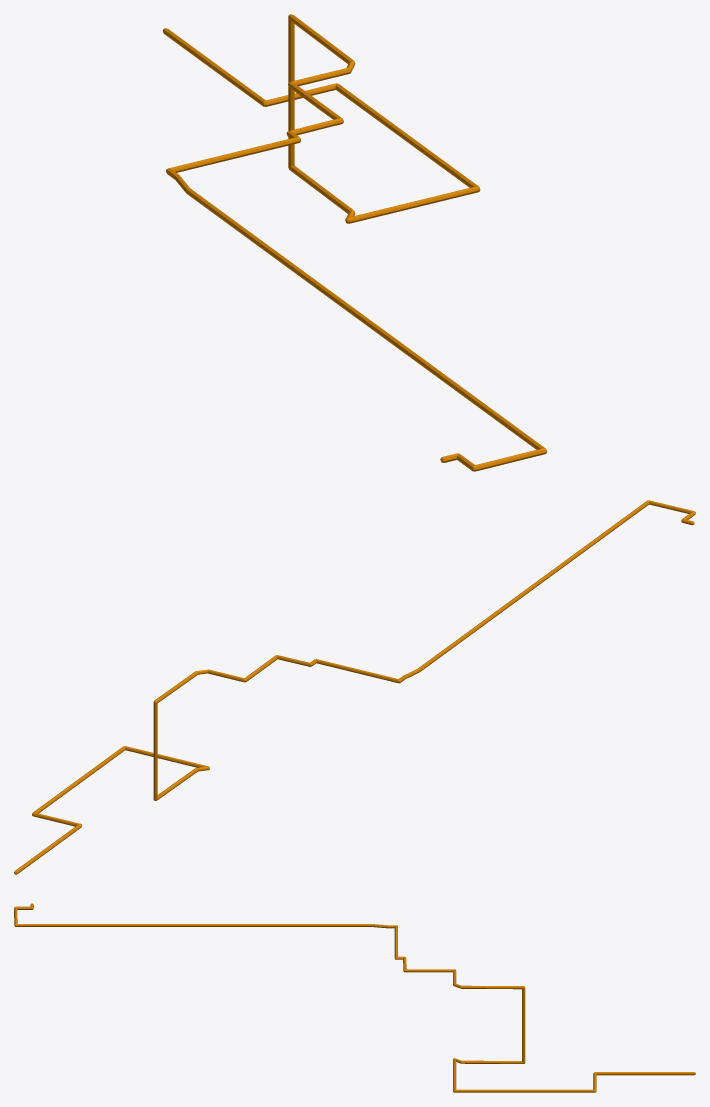
The picture shows the model from 3 angles, top to bottom: view 1: azimuth 30°, elevation 25°; view 2: azimuth 150°, elevation 25°; view 3: azimuth 270°, elevation 25°; orthographic projection. The views are drawn at different scales.
Bounding box in the file's own units: 1613 × 520 × 4124.
